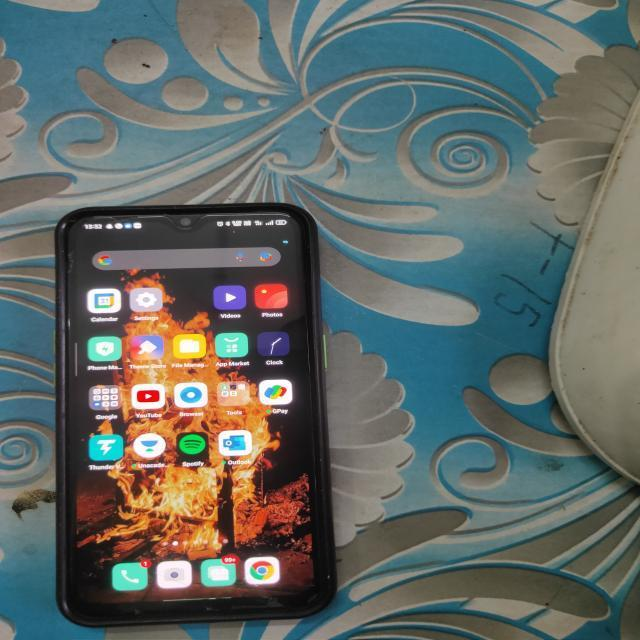Phone: (52, 200, 337, 624)
